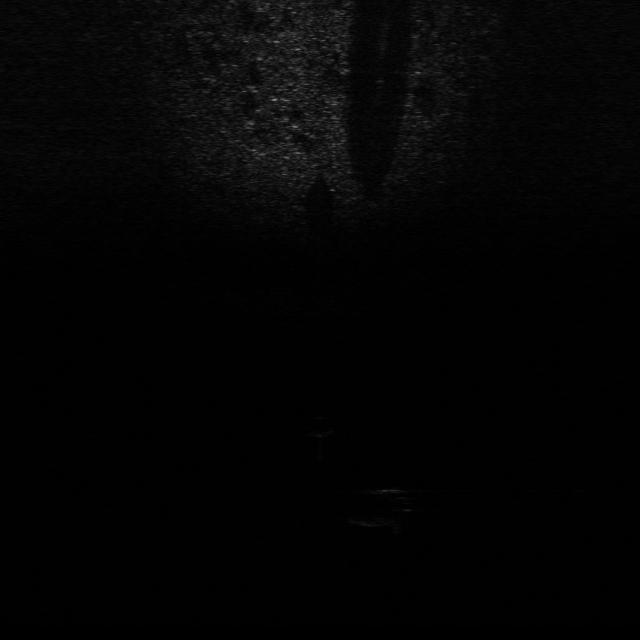ball: (300, 412, 336, 441)
tyre: (347, 476, 421, 530)
